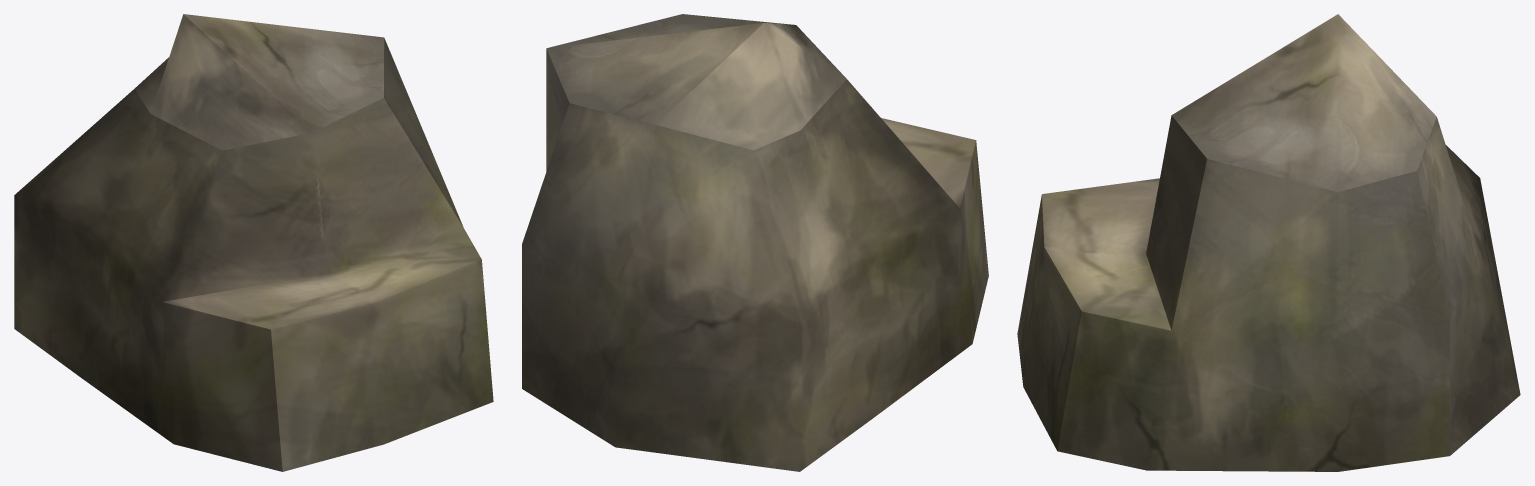
The model's file is rock_1_F.FBX.
The picture shows the model from 3 angles, left to right: view 1: azimuth 30°, elevation 25°; view 2: azimuth 150°, elevation 25°; view 3: azimuth 270°, elevation 25°; orthographic projection. The views are drawn at different scales.
Parts seen in each view (by area): view 1: 3; view 2: 3; view 3: 3.
Part boxes in pixels (bbox=[...]): 3: bbox=[14, 14, 493, 471]; 3: bbox=[522, 14, 988, 471]; 3: bbox=[1017, 14, 1520, 471].
Size of the model in its own units: 155 by 214 by 166.
